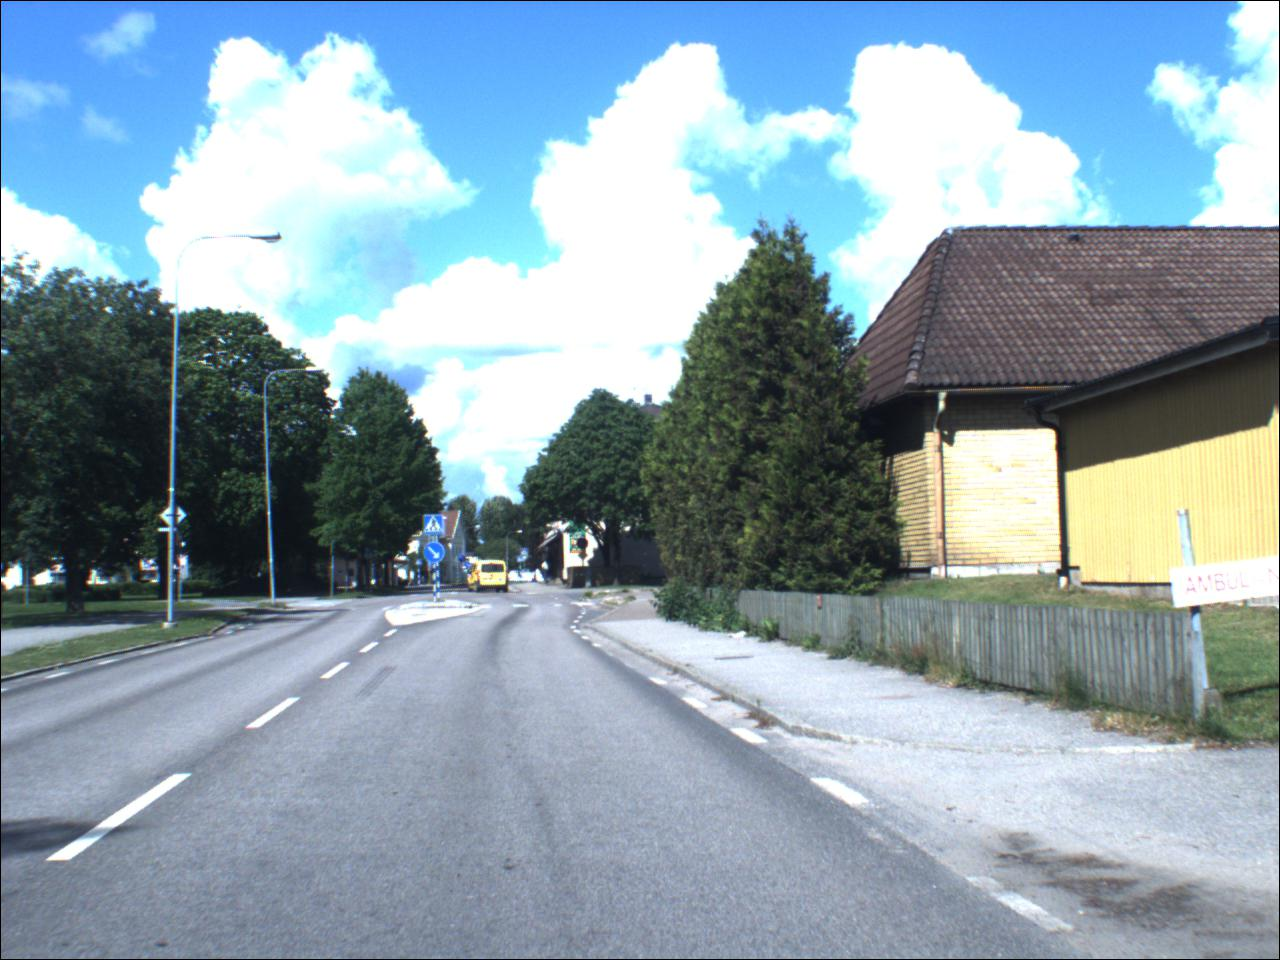NO_STOPPING_NO_STANDING: (579, 538, 592, 553)
PASS_RIGHT_SIDE: (426, 543, 447, 565)
PEDESTRIAN_CROSSING: (425, 516, 447, 537), (365, 549, 377, 563), (519, 557, 526, 566), (523, 551, 531, 558), (418, 560, 425, 568)
PRIORITY_ROAD: (580, 552, 591, 563)
